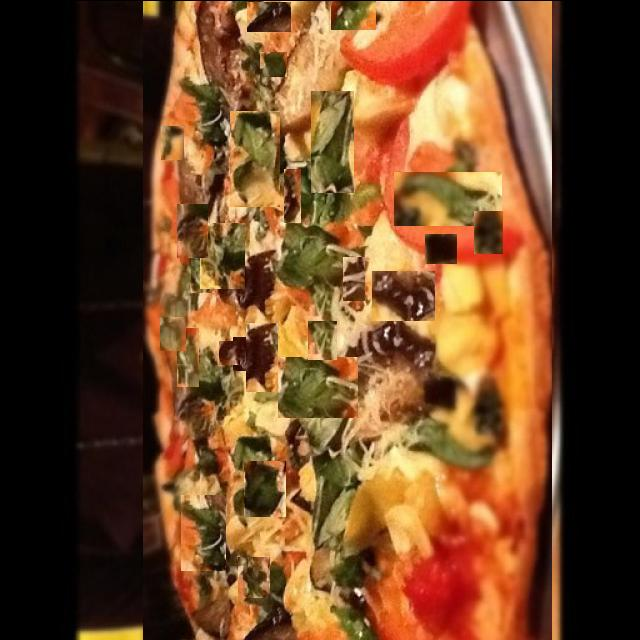basil: (394, 171, 502, 225), (278, 354, 358, 416), (230, 110, 280, 206), (275, 414, 347, 480), (311, 90, 354, 192), (301, 184, 350, 257), (181, 494, 226, 570), (200, 222, 245, 288), (250, 238, 295, 297), (244, 0, 292, 55), (186, 28, 216, 109), (244, 460, 286, 516), (247, 514, 279, 578), (178, 203, 210, 257), (191, 154, 220, 200), (238, 556, 270, 597), (331, 0, 376, 29), (177, 327, 199, 386), (308, 320, 337, 358), (160, 316, 186, 350), (191, 258, 215, 292), (346, 436, 378, 461), (161, 125, 184, 159), (260, 51, 287, 76), (245, 211, 259, 230)
olive: (372, 270, 435, 320), (246, 322, 278, 391), (247, 1, 291, 31), (474, 208, 503, 252), (343, 256, 365, 300), (425, 233, 457, 263), (284, 168, 301, 222), (219, 339, 254, 364), (233, 336, 254, 370), (291, 128, 313, 148)
pizza: (143, 0, 552, 640)
